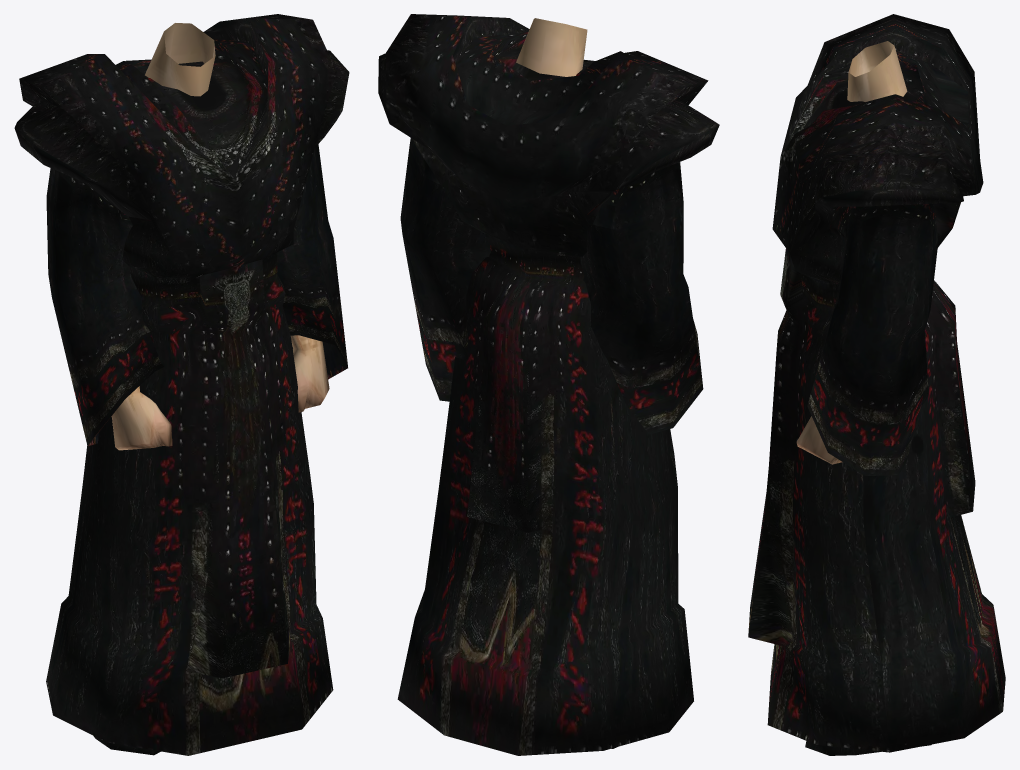
The model's file is MROK_T5_02.glb.
3 renders of one model, left to right at view 1: azimuth 30°, elevation 25°; view 2: azimuth 150°, elevation 25°; view 3: azimuth 270°, elevation 25°, orthographic. The views are drawn at different scales.
Visible parts, largest first — view 1: MROK_T5_02; view 2: MROK_T5_02; view 3: MROK_T5_02.
Part boxes in pixels (x1,y1,x2,y2): MROK_T5_02: (14,14,349,755); MROK_T5_02: (378,14,719,755); MROK_T5_02: (748,14,1005,755).
Bounding box in the file's own units: 0.7933 × 1.66 × 0.5849.
2 materials, 2 textured.
